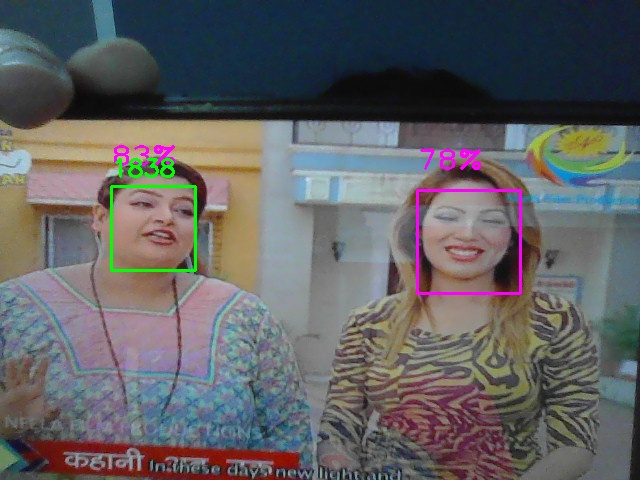fake: (111, 186, 196, 271)
